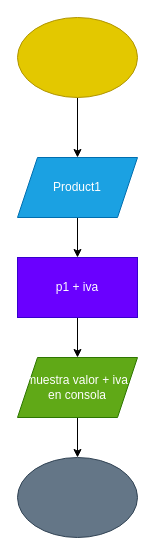
Some shapes in this 155 by 555 pixel diagram are drawn without their labels. Each missing label, with the centre of its shape:
fin: [77,497]
start: [77,57]
